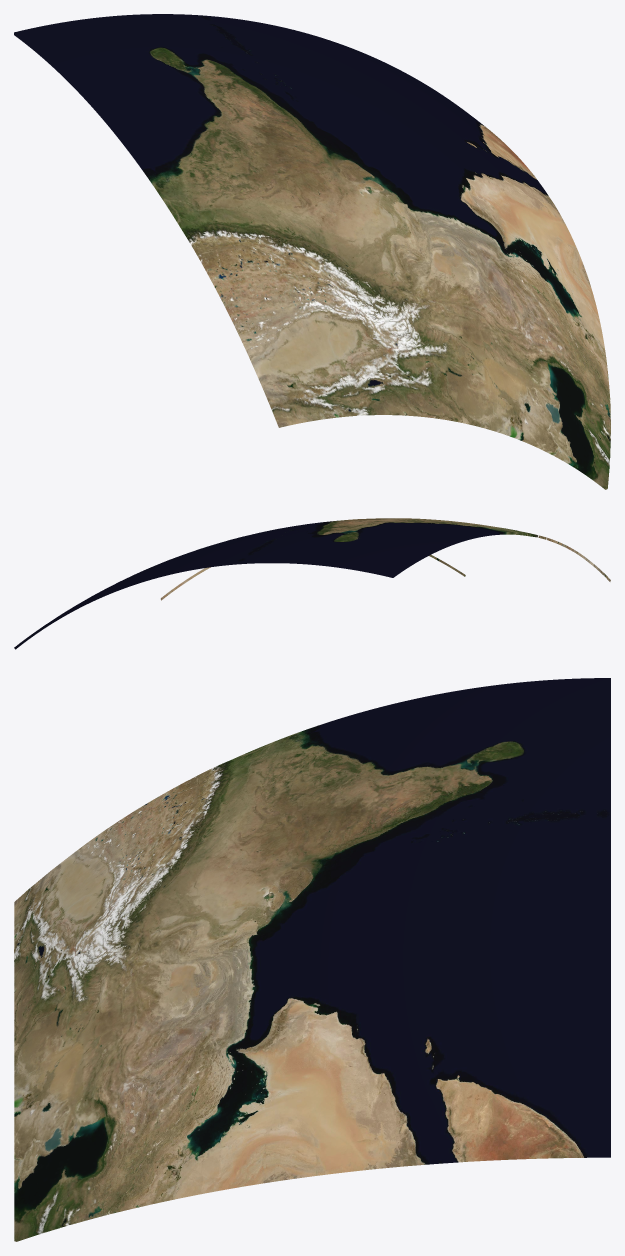
3 views of the same model, one above another, from view 1: azimuth 30°, elevation 25°; view 2: azimuth 150°, elevation 25°; view 3: azimuth 270°, elevation 25° (orthographic). The views are drawn at different scales.
Visible parts, largest first — view 1: DefaultName.009, DefaultName.006, DefaultName.012, DefaultName.003; view 2: DefaultName.006, DefaultName.003, DefaultName.009, DefaultName.012; view 3: DefaultName.003, DefaultName.012, DefaultName.006, DefaultName.009.
Boxes of the visible parts, x1,y1,x2,y2 form: DefaultName.009: (157, 172, 457, 427); DefaultName.006: (14, 14, 388, 191); DefaultName.012: (389, 181, 610, 489); DefaultName.003: (265, 23, 585, 269); DefaultName.006: (188, 518, 510, 577); DefaultName.003: (14, 531, 265, 649); DefaultName.009: (435, 519, 610, 581); DefaultName.012: (160, 555, 465, 600); DefaultName.003: (288, 873, 610, 1179); DefaultName.012: (14, 917, 289, 1241); DefaultName.006: (288, 678, 610, 916); DefaultName.009: (14, 736, 288, 1040).
Size of the model in its own units: 45100 by 31961 by 44897.
4 materials, 4 textured.
